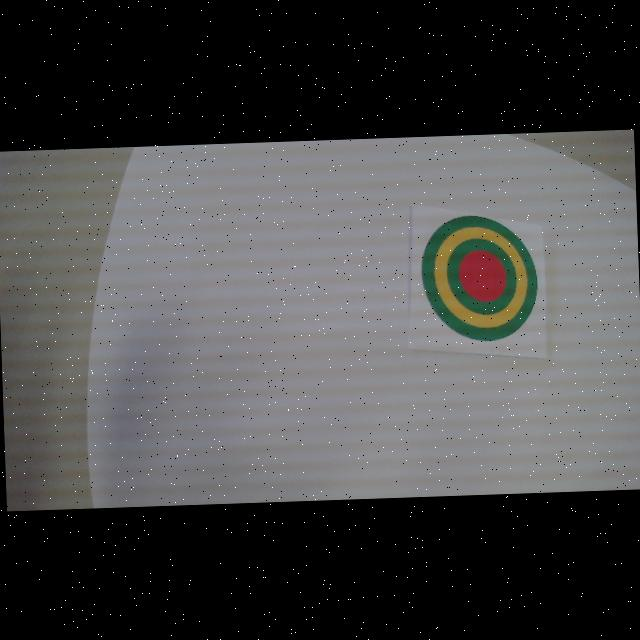COGNITIVE: (418, 212, 539, 344)
